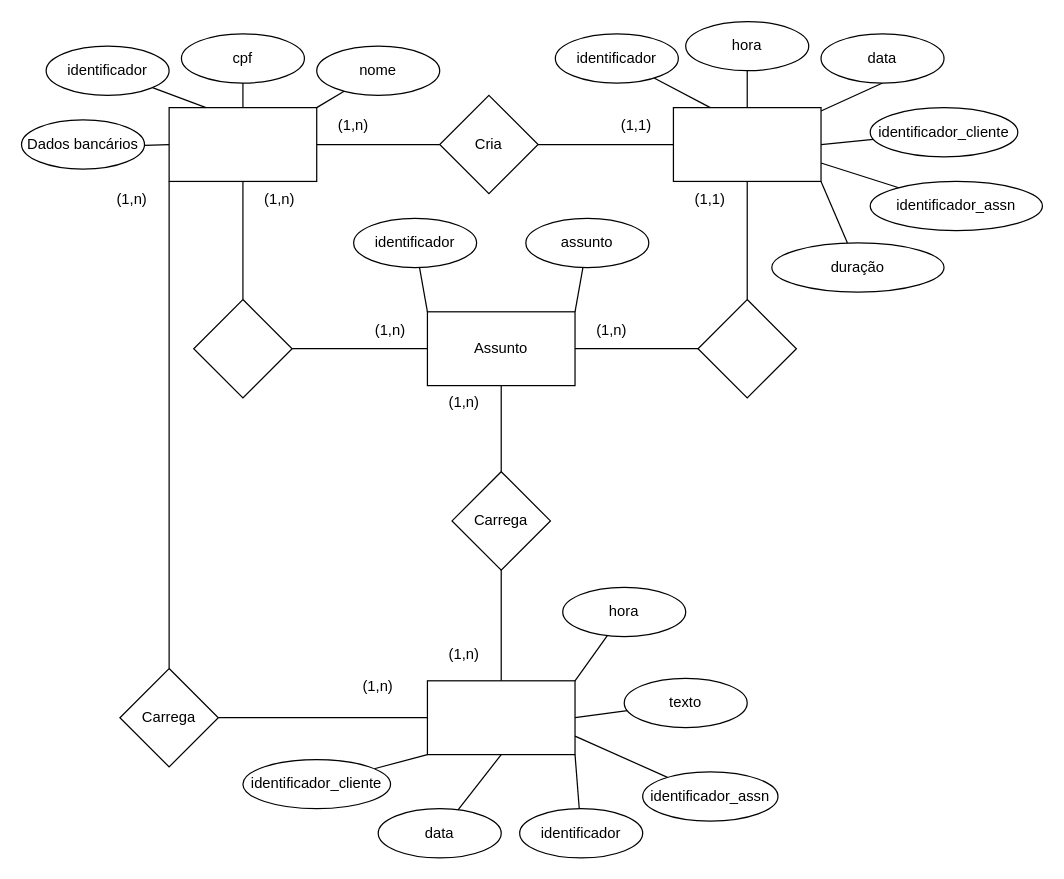
Some shapes in this 1064 by 879 pixel diagram are drawn without their labels. Each missing label, with the centre of its shape:
Adiciona: the point at 746,348
Cliente: the point at 242,143
Escolhe: the point at 242,348
Mensagem: the point at 500,717
Sessão: the point at 746,143
